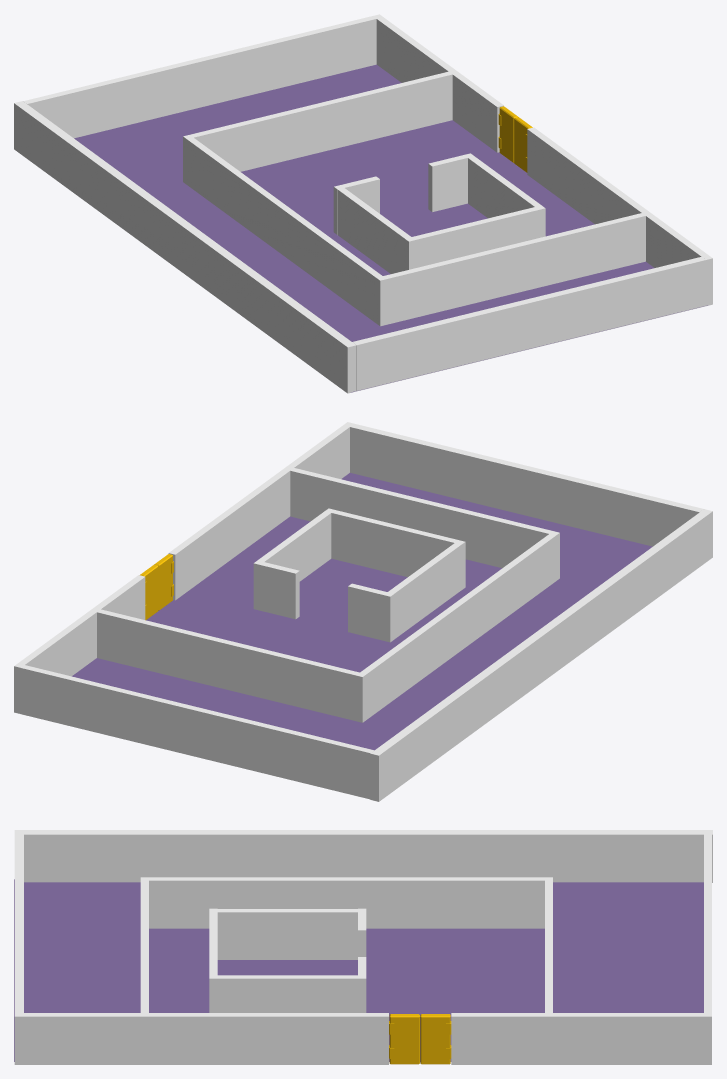
Rendered from maps_62.fbx.
3 renders of one model, top to bottom at view 1: azimuth 30°, elevation 25°; view 2: azimuth 150°, elevation 25°; view 3: azimuth 270°, elevation 25°, orthographic. The views are drawn at different scales.
Parts seen in each view (by area): view 1: wall_01_08_geo, wall_01_07_geo, wall_01_05_geo, wall_01_09_geo, wall_01_09_geo3, wall_01_09_geo6, wall_01_11_geo6, wall_01_06_geo, wall_01_06_geo1, wall_01_09_geo9, wall_01_11_geo8, wall_01_11_geo9 (+4 smaller); view 2: wall_01_08_geo, wall_01_07_geo, wall_01_09_geo, wall_01_05_geo, wall_01_09_geo6, wall_01_11_geo6, wall_01_09_geo3, wall_01_06_geo, wall_01_09_geo9, wall_01_06_geo1, wall_01_11_geo8, wall_01_11_geo9 (+4 smaller); view 3: wall_01_08_geo, wall_01_07_geo, wall_01_06_geo, wall_01_11_geo6, wall_01_06_geo1, wall_01_11_geo8, wall_01_11_geo9, wall_01_05_geo, polySurface161, polySurface165, wall_01_09_geo, wall_01_09_geo3 (+4 smaller).
Part boxes in pixels (x1,y1,x2,y2): wall_01_08_geo: (74,64,707,392); wall_01_07_geo: (14,101,356,393); wall_01_05_geo: (352,257,705,391); wall_01_09_geo: (23,16,376,138); wall_01_09_geo3: (376,213,645,326); wall_01_09_geo6: (190,71,452,171); wall_01_11_geo6: (183,135,382,322); wall_01_06_geo: (527,127,712,306); wall_01_06_geo1: (373,14,503,152); wall_01_09_geo9: (405,206,545,270); wall_01_11_geo8: (338,188,411,273); wall_01_11_geo9: (467,155,541,218); wall_01_08_geo: (72,473,652,750); wall_01_07_geo: (370,509,712,801); wall_01_09_geo: (20,665,373,799); wall_01_05_geo: (350,423,703,546); wall_01_09_geo6: (97,609,359,720); wall_01_11_geo6: (356,534,555,722); wall_01_09_geo3: (290,468,559,580); wall_01_06_geo: (168,422,353,600); wall_01_09_geo9: (325,508,465,589); wall_01_06_geo1: (14,575,145,713); wall_01_11_geo8: (387,542,461,639); wall_01_11_geo9: (257,511,331,581); wall_01_08_geo: (14,879,703,1061); wall_01_07_geo: (14,830,712,882); wall_01_06_geo: (14,1013,388,1064); wall_01_11_geo6: (149,877,552,928); wall_01_06_geo1: (451,1013,711,1064); wall_01_11_geo8: (216,909,359,959); wall_01_11_geo9: (216,975,359,1012); wall_01_05_geo: (14,834,23,1012); polySurface161: (420,1014,451,1064); polySurface165: (389,1014,419,1064); wall_01_09_geo: (704,834,711,1012); wall_01_09_geo3: (140,877,148,1012).
Size of the model in its own units: 73.43 by 8.89 by 116.
Materials: 2 (2 with a texture image).
